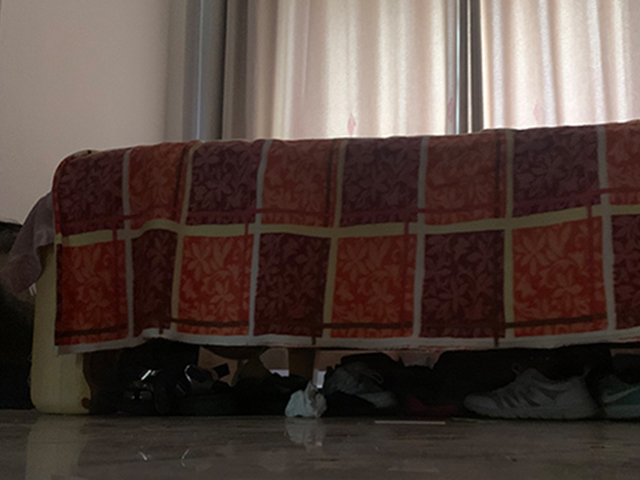bed: (29, 118, 640, 418)
curtain: (226, 1, 633, 139)
